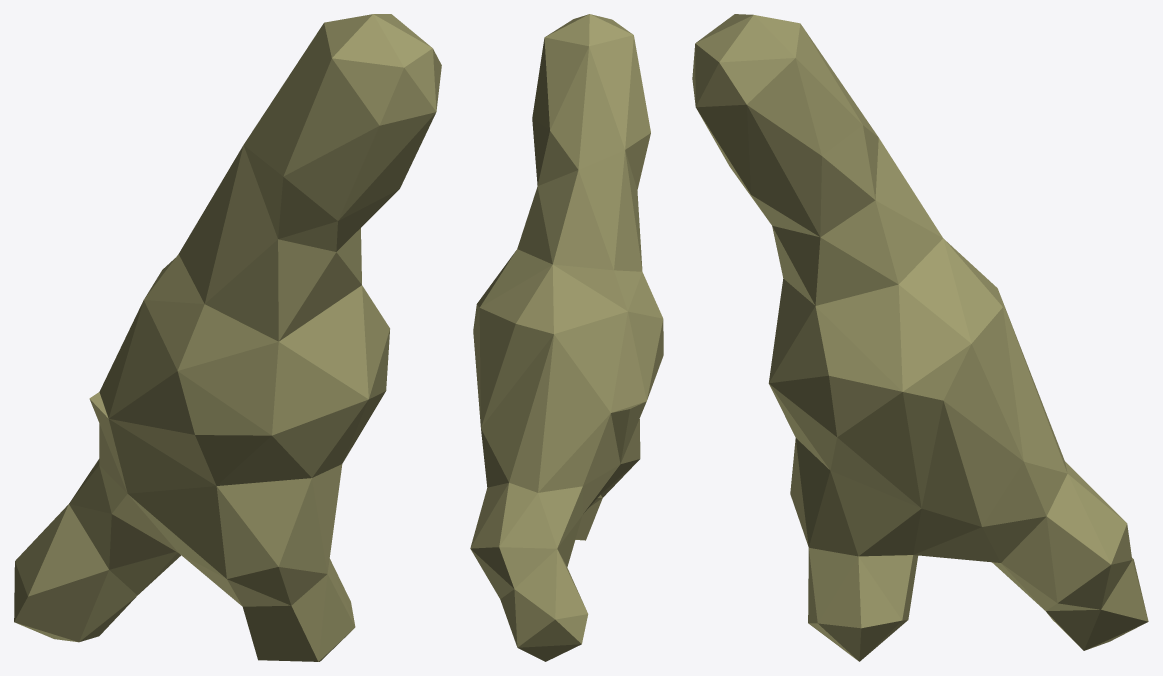
Rendered from DeadVegetationDecorationSmallGrowth1.fbx.
3 renders of one model, left to right at view 1: azimuth 30°, elevation 25°; view 2: azimuth 150°, elevation 25°; view 3: azimuth 270°, elevation 25°, orthographic. The views are drawn at different scales.
Visible parts, largest first — view 1: DeadVegetationDecorationSmallGrowth1; view 2: DeadVegetationDecorationSmallGrowth1; view 3: DeadVegetationDecorationSmallGrowth1.
Part boxes in pixels (box(x1,y1,x2,y2)): DeadVegetationDecorationSmallGrowth1: box(14, 14, 441, 661); DeadVegetationDecorationSmallGrowth1: box(470, 14, 663, 661); DeadVegetationDecorationSmallGrowth1: box(692, 14, 1148, 661).
Bounding box in the file's own units: 251 × 699 × 421.
